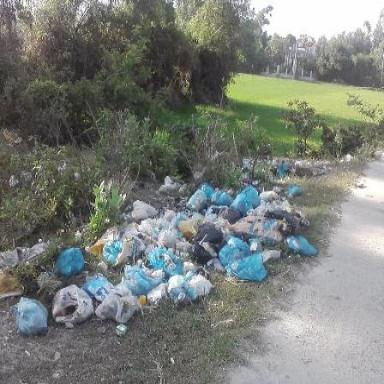plasticbag: (9, 172, 338, 342), (214, 233, 268, 279), (47, 282, 97, 330), (96, 281, 141, 332), (10, 291, 49, 343), (281, 230, 322, 266), (50, 243, 91, 278)
